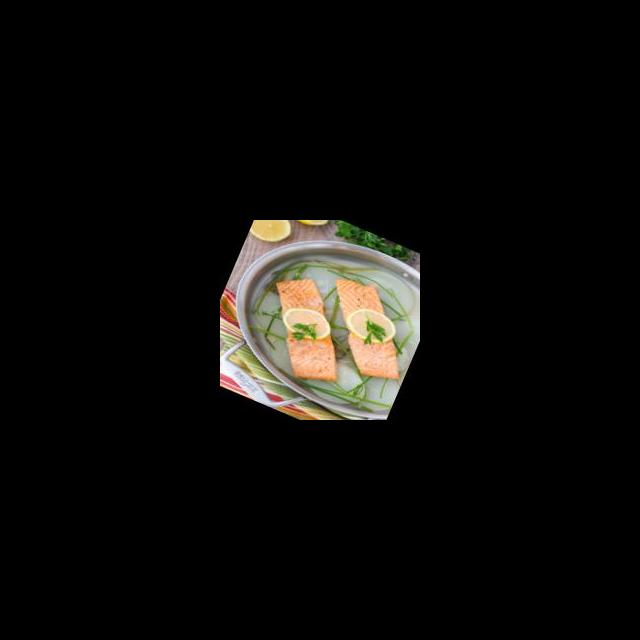ca hoi: (240, 262, 372, 394), (302, 269, 420, 392)
